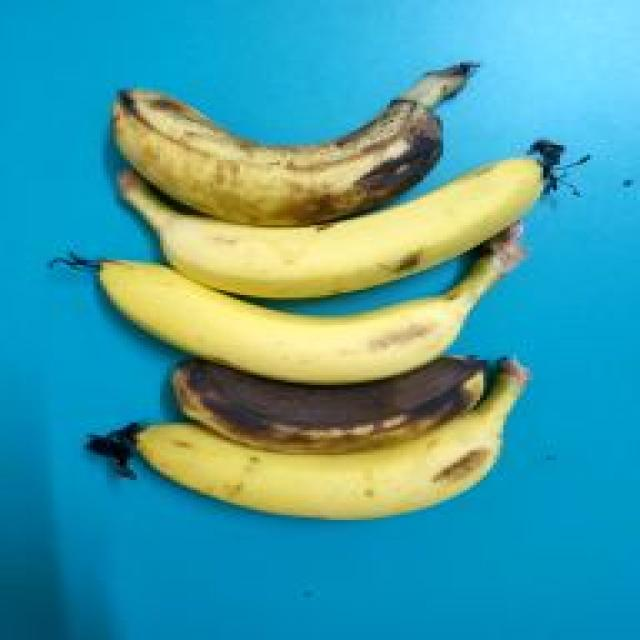Wet: (110, 57, 477, 225), (163, 352, 490, 452)
